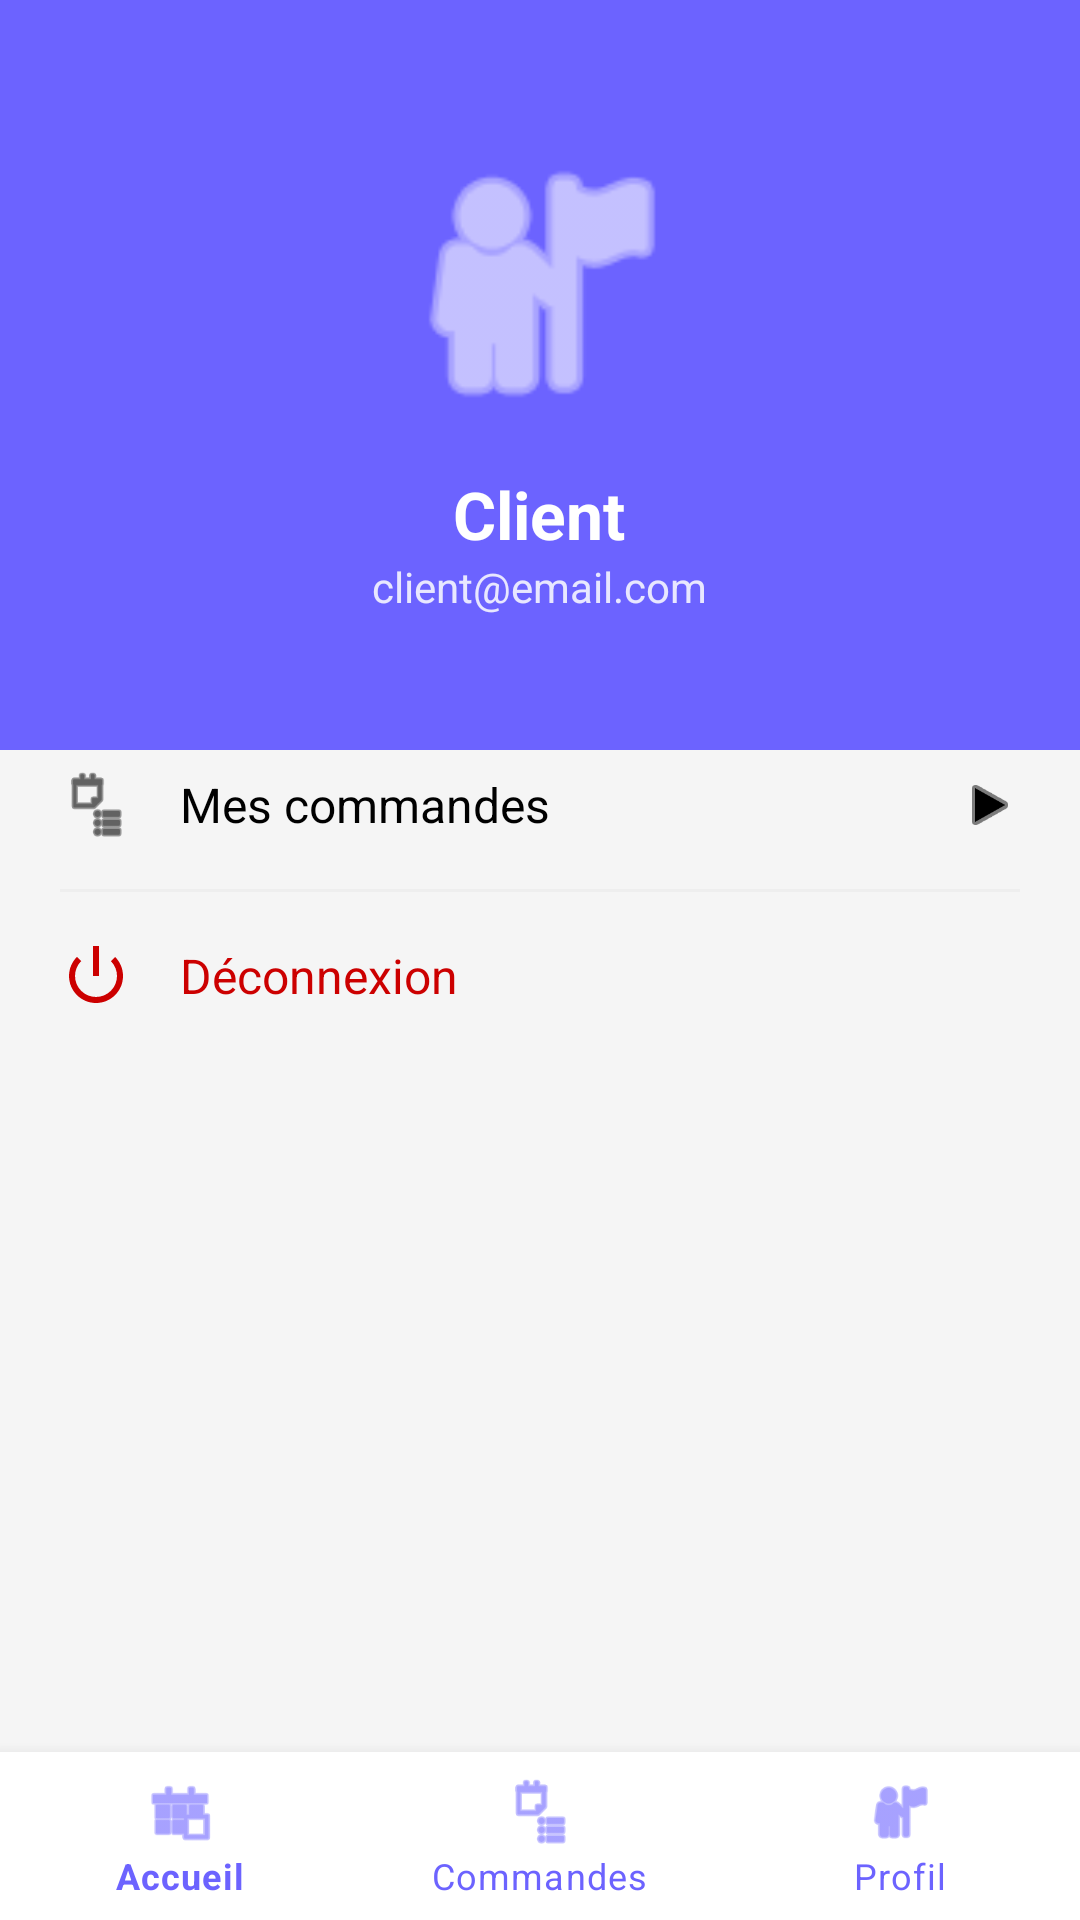

Where to tap for icons on this 1080px x 1920px app screen, as [x,y]:
agenda: [96,805]
lock power off: [96,974]
play: [990,805]
